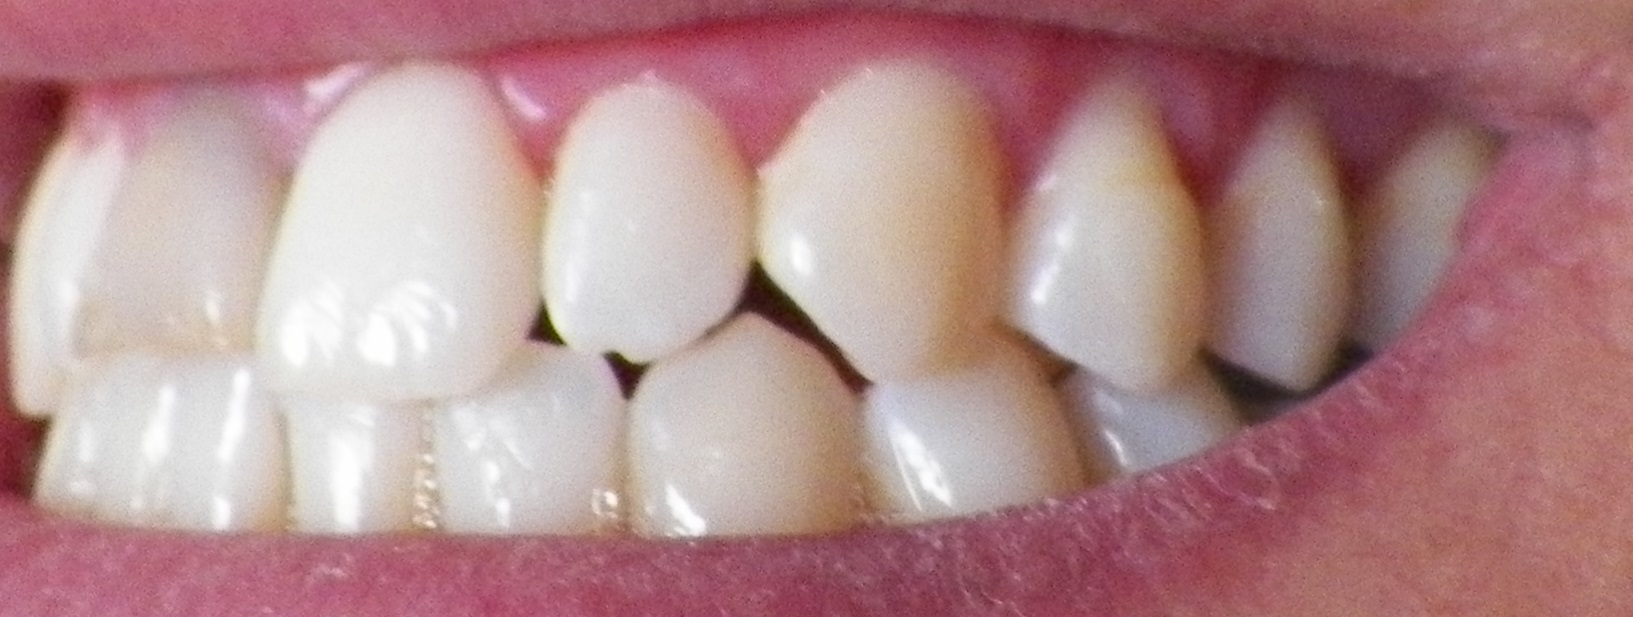boca: (7, 70, 1431, 525)
